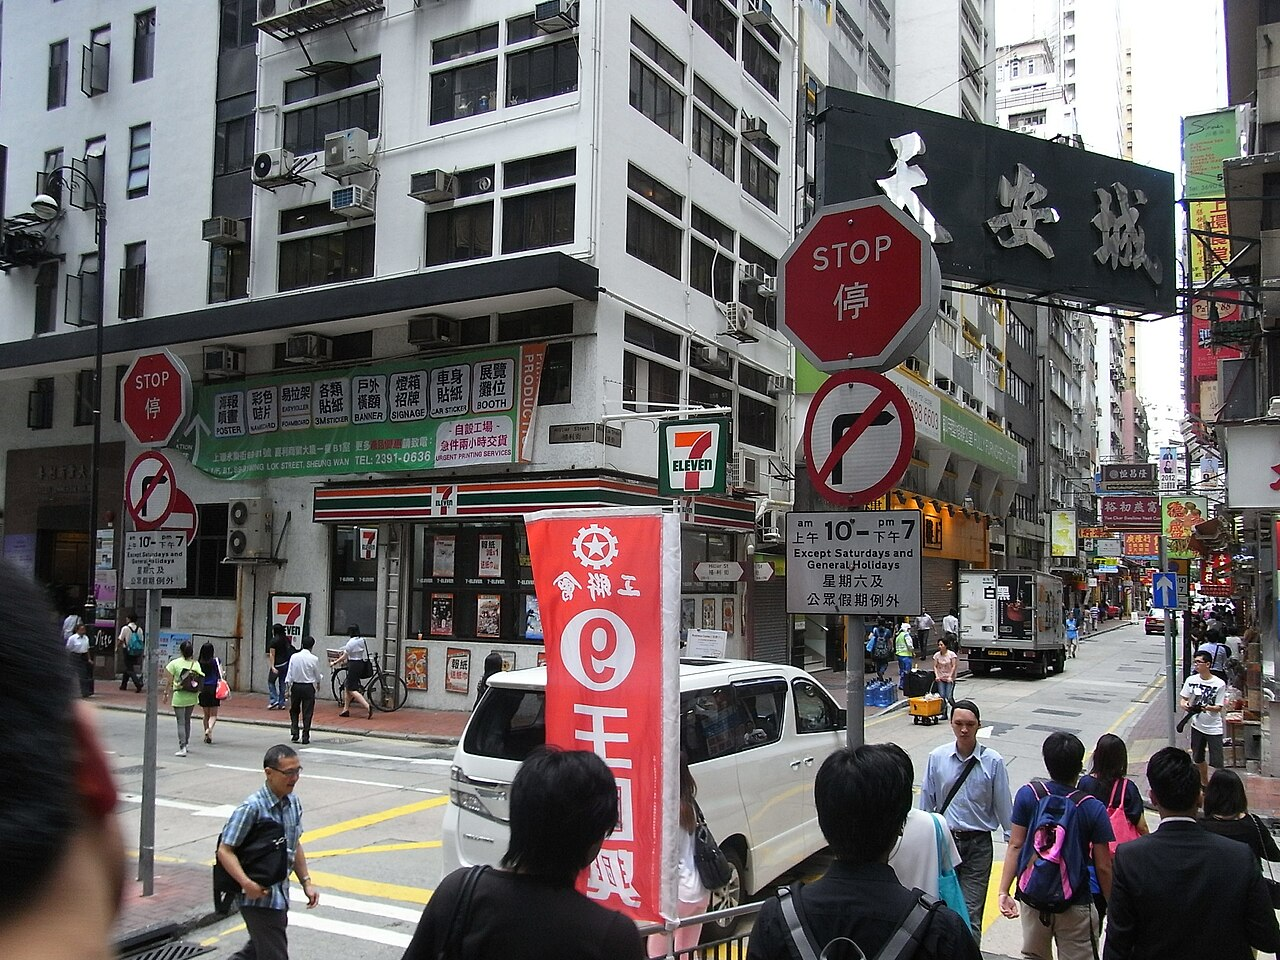No Turn Right: (800, 370, 937, 495), (112, 453, 177, 522)
Stop: (770, 193, 954, 363), (114, 345, 195, 440)
